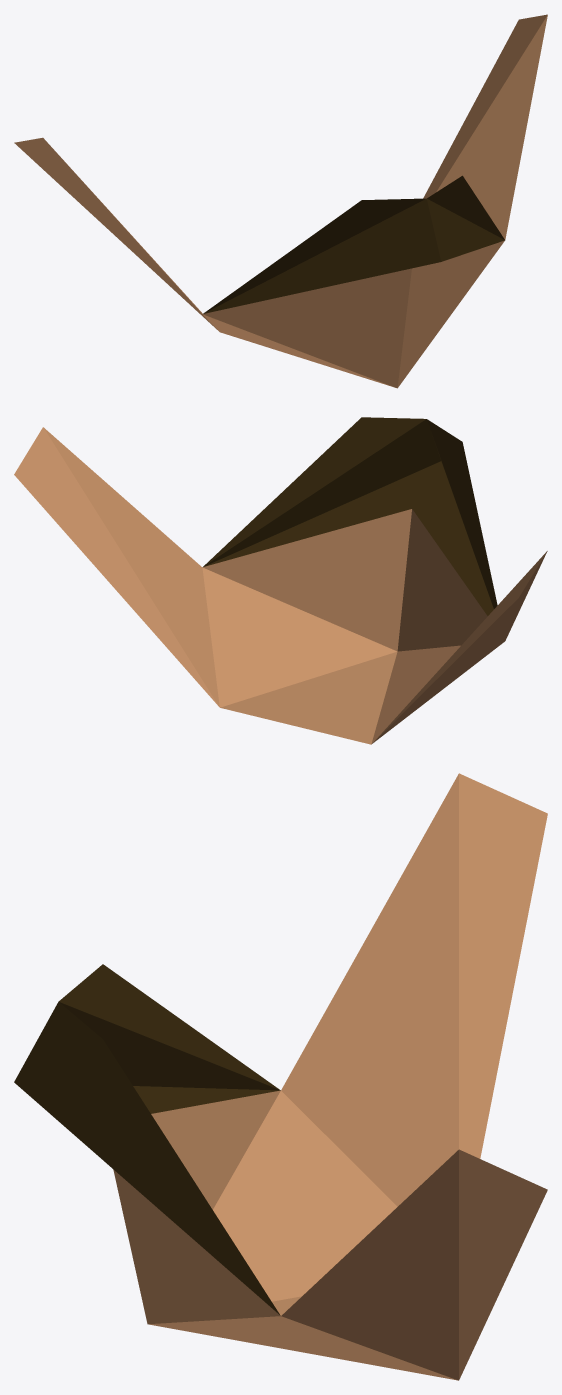
File: model_247_idk.obj
The picture shows the model from 3 angles, top to bottom: view 1: azimuth 30°, elevation 25°; view 2: azimuth 150°, elevation 25°; view 3: azimuth 270°, elevation 25°; orthographic projection. The views are drawn at different scales.
Parts seen in each view (by area): view 1: 247; view 2: 247; view 3: 247.
Part boxes in pixels (<box>): 247: <box>14,14,547,388</box>; 247: <box>14,417,547,744</box>; 247: <box>14,773,547,1380</box>.
Bounding box in the file's own units: 20 × 9 × 12.
